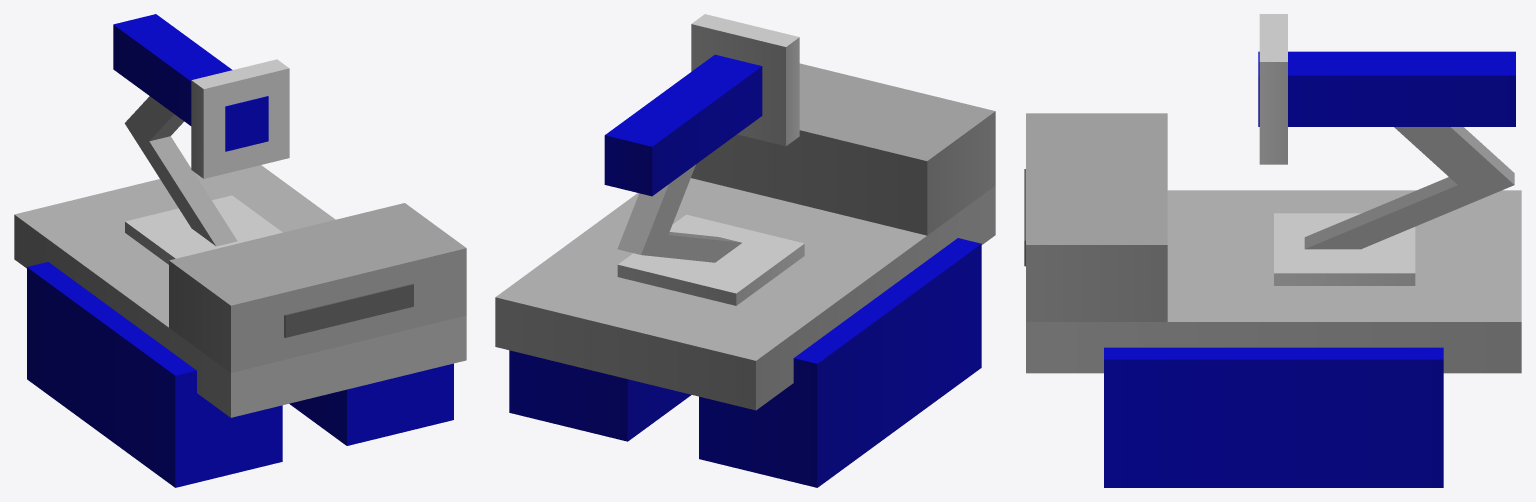
File: tank-maser.glb
The picture shows the model from 3 angles, left to right: view 1: azimuth 30°, elevation 25°; view 2: azimuth 150°, elevation 25°; view 3: azimuth 270°, elevation 25°; orthographic projection. The views are drawn at different scales.
Parts seen in each view (by area): view 1: mesh0; view 2: mesh0; view 3: mesh0.
Part boxes in pixels (x1,y1,x2,y2): mesh0: [14, 14, 466, 487]; mesh0: [495, 14, 995, 487]; mesh0: [1024, 14, 1521, 487].
Bounding box in the file's own units: 2.6 × 2.9 × 3.51.
